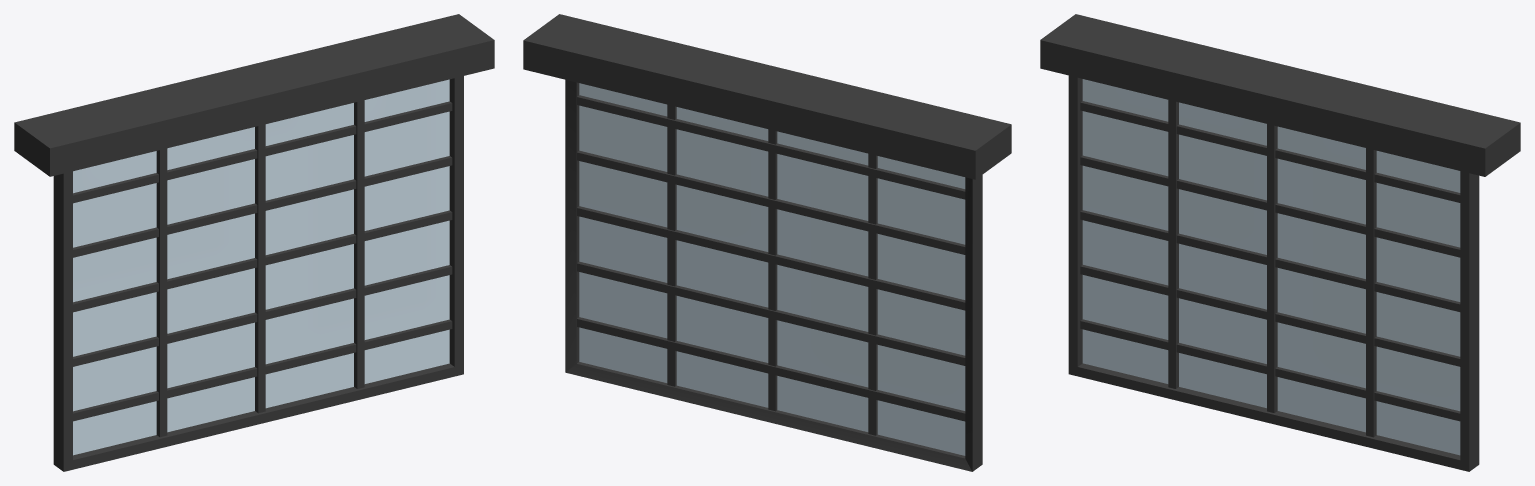
The model's file is window_024.glb.
3 renders of one model, left to right at view 1: azimuth 30°, elevation 25°; view 2: azimuth 150°, elevation 25°; view 3: azimuth 330°, elevation 25°, orthographic.
Visible parts, largest first — view 1: window_024; view 2: window_024; view 3: window_024.
Part boxes in pixels (x1,y1,x2,y2): window_024: (14, 14, 494, 471); window_024: (523, 14, 1011, 471); window_024: (1040, 14, 1520, 471).
Size of the model in its own units: 3.43 by 2.46 by 0.4746.
Materials: 1 (1 with a texture image).
